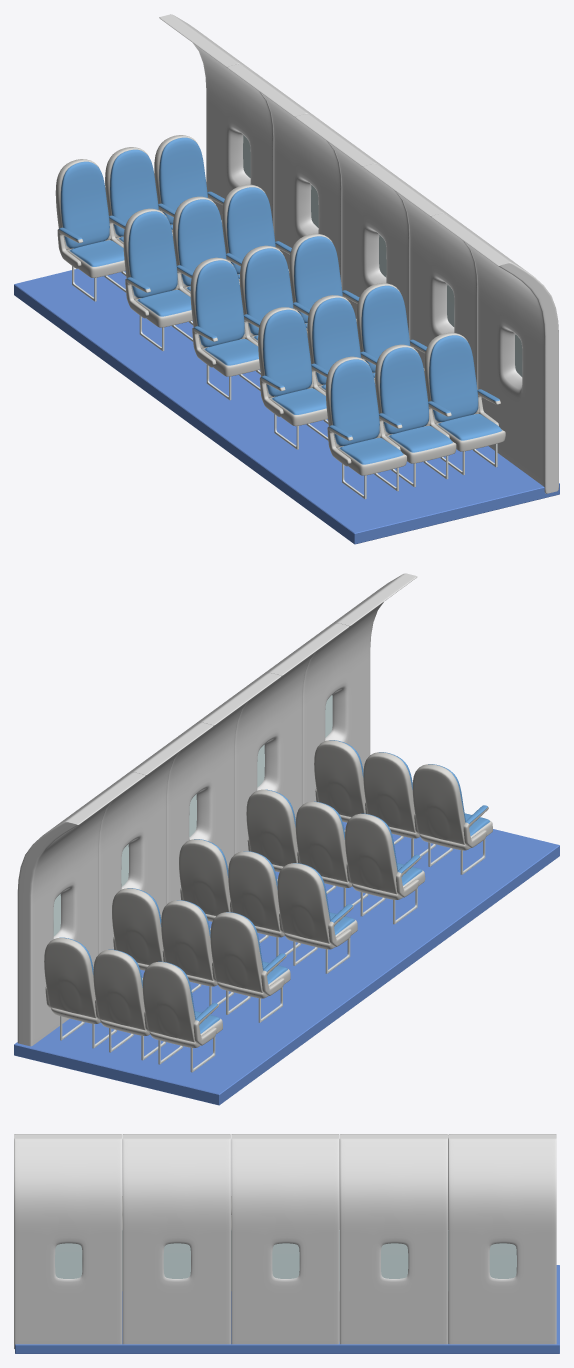
The model's file is airplane_inside.glb.
3 renders of one model, top to bottom at view 1: azimuth 30°, elevation 25°; view 2: azimuth 150°, elevation 25°; view 3: azimuth 270°, elevation 25°, orthographic. The views are drawn at different scales.
Visible parts, largest first — view 1: Chair, Wall, Floor, Window; view 2: Chair, Wall, Floor, Window; view 3: Wall, Floor, Window.
Boxes of the visible parts, box(x1,y1,x2,y2) form: Chair: box(55, 135, 505, 499); Wall: box(159, 14, 558, 493); Floor: box(14, 268, 559, 544); Window: box(243, 135, 522, 376); Chair: box(44, 740, 492, 1072); Wall: box(17, 573, 417, 1046); Floor: box(14, 822, 559, 1105); Window: box(53, 695, 332, 936); Wall: box(14, 1134, 556, 1349); Floor: box(15, 1265, 559, 1353); Window: box(55, 1230, 516, 1290).
Size of the model in its own units: 0.1194 by 0.1357 by 0.3433.
